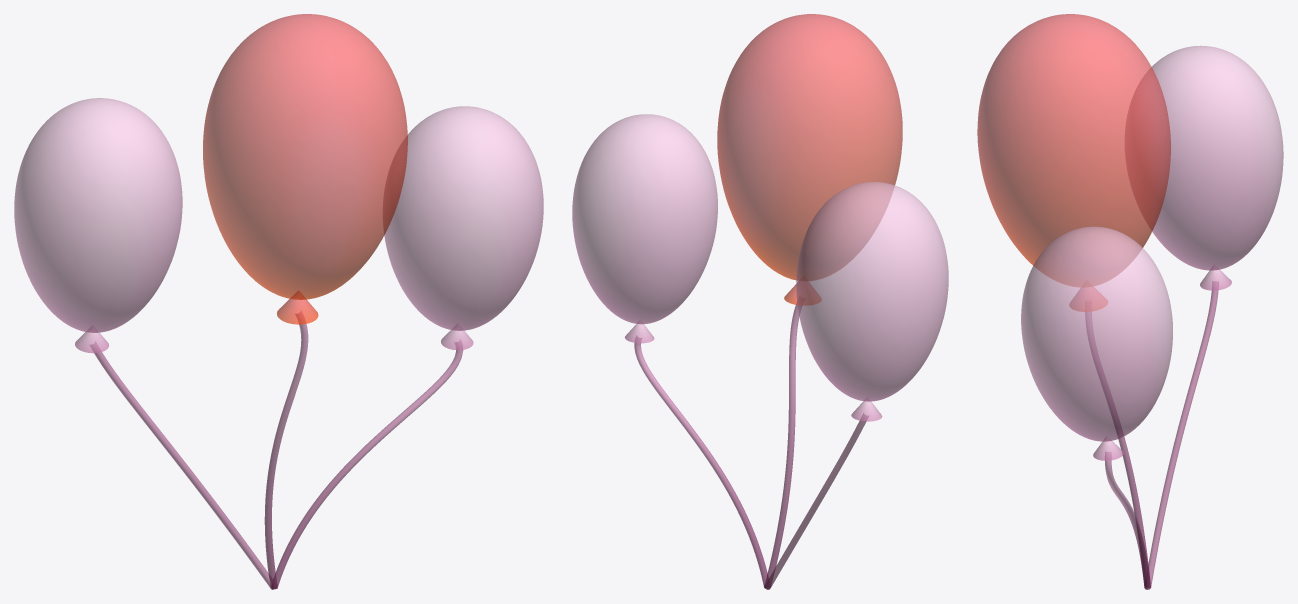
Rendered from red-balloon.glb.
3 renders of one model, left to right at view 1: azimuth 30°, elevation 25°; view 2: azimuth 150°, elevation 25°; view 3: azimuth 270°, elevation 25°, orthographic. The views are drawn at different scales.
Parts seen in each view (by area): view 1: balloon_red, balloon_left, balloon_right, string_left, string_right, string_red, knot_red; view 2: balloon_red, balloon_left, balloon_right, string_red, string_right, string_left, knot_red; view 3: balloon_red, balloon_left, balloon_right, string_left, string_red, string_right, knot_red, knot_left, knot_right.
Boxes of the visible parts, x1,y1,x2,y2 form: balloon_red: (203,14,407,299); balloon_left: (14,98,182,332); balloon_right: (383,106,543,330); string_left: (90,342,274,589); string_right: (274,340,463,588); string_red: (264,311,308,589); knot_red: (277,291,318,324); balloon_red: (717,14,902,280); balloon_left: (796,182,948,401); balloon_right: (572,114,717,324); string_red: (765,304,801,588); string_right: (634,336,768,588); string_left: (765,413,868,589); knot_red: (784,281,821,304); balloon_red: (977,14,1170,286); balloon_left: (1125,45,1283,270); balloon_right: (1021,226,1172,441); string_left: (1148,281,1218,587); string_red: (1085,312,1150,587); string_right: (1105,452,1150,589); knot_red: (1069,287,1107,311); knot_left: (1200,265,1231,290); knot_right: (1093,436,1123,460).
Bounding box in the file's own units: 0.8359 × 1.06 × 0.5224.
